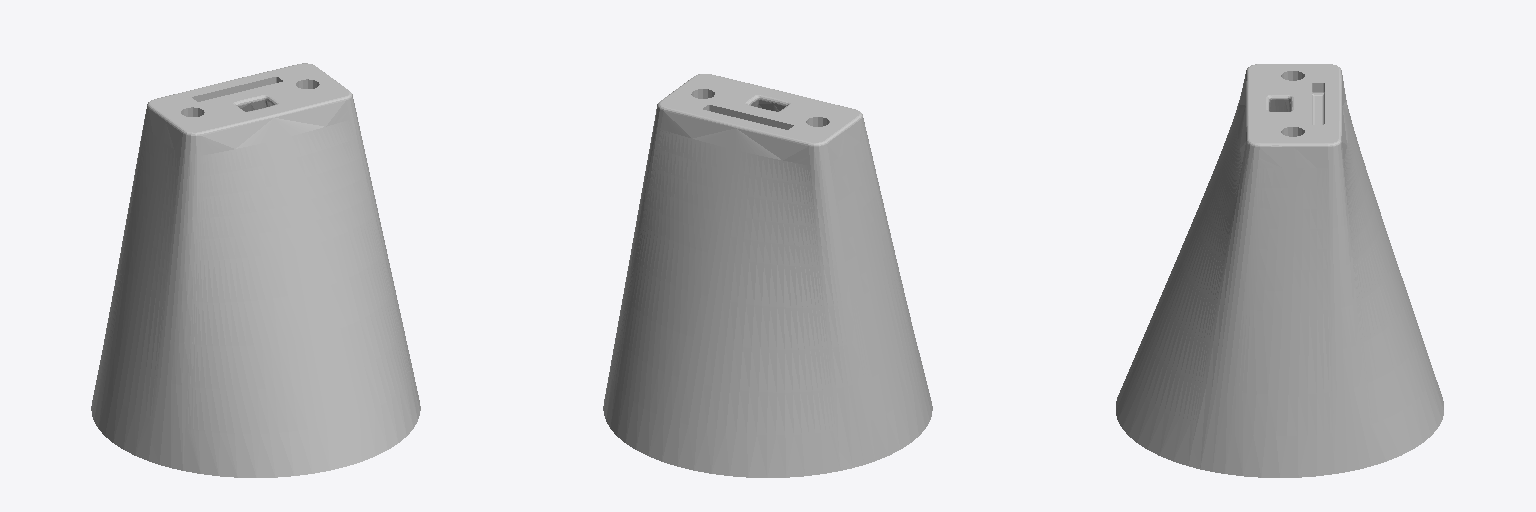
Rendered from VL53L0X_standoff.obj.
The picture shows the model from 3 angles: view 1: azimuth 30°, elevation 25°; view 2: azimuth 150°, elevation 25°; view 3: azimuth 270°, elevation 25°; orthographic projection.
Parts seen in each view (by area): view 1: Solid1; view 2: Solid1; view 3: Solid1.
Part boxes in pixels (left/top/right/bottom): Solid1: left=91, top=63, right=420, bottom=477; Solid1: left=603, top=74, right=932, bottom=477; Solid1: left=1116, top=64, right=1443, bottom=477.
Bounding box in the file's own units: 48.92 × 50 × 48.84.